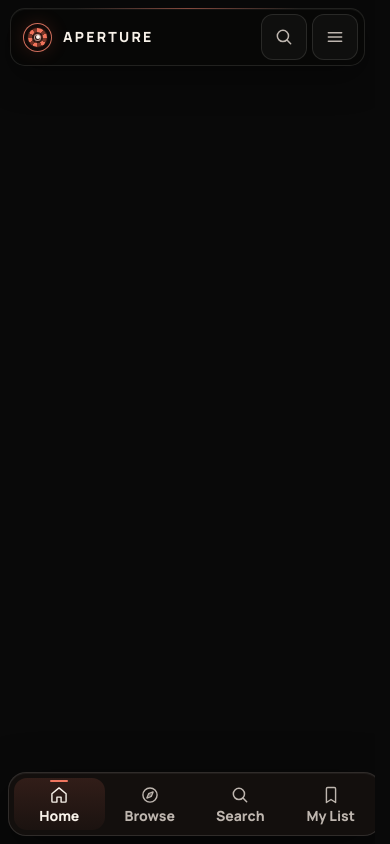
it: customer feature flags › remove disabled domains from primary and mobile navigation
Click the button named "Open menu" at (335, 37), box [312, 14, 358, 60]
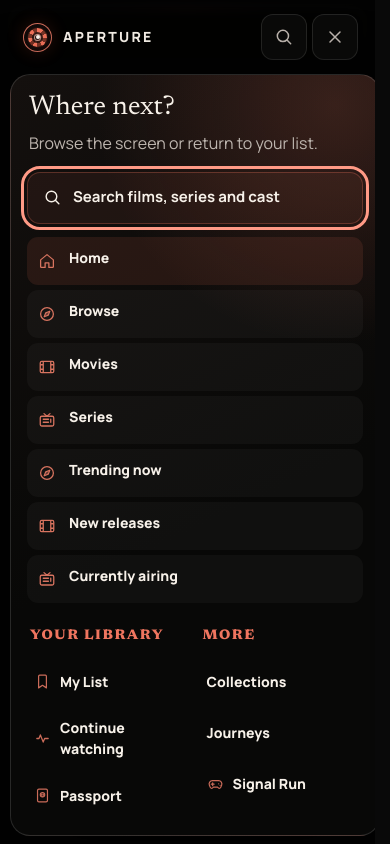
Expected: the number of links "Movies" is 2
